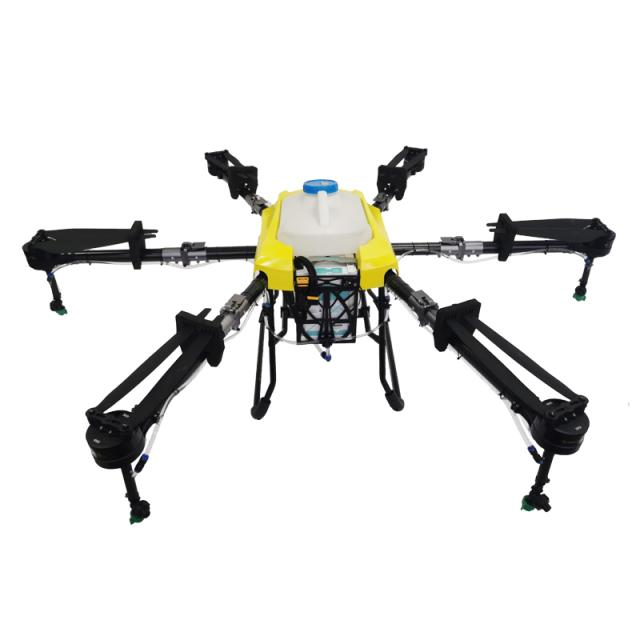drone: (0, 126, 640, 562)
